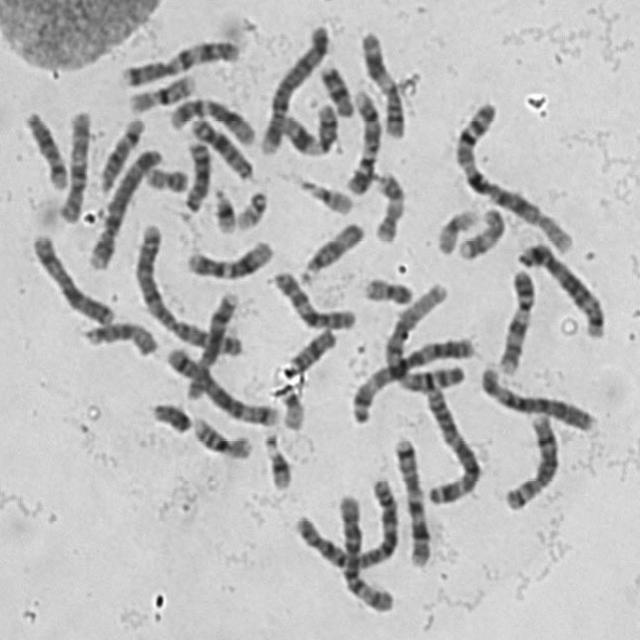A1: (448, 93, 578, 256), (380, 278, 468, 393)
A2: (127, 214, 245, 359), (288, 469, 400, 572)
A3: (343, 330, 478, 425), (416, 379, 484, 506)
B4: (252, 16, 332, 157), (80, 138, 164, 272)
B5: (160, 338, 282, 428), (512, 234, 608, 340)
C10: (266, 262, 360, 332), (51, 102, 93, 224)
C11: (354, 22, 408, 140), (274, 94, 340, 158)
C12: (162, 90, 258, 147), (180, 231, 276, 281)
C6: (474, 358, 599, 434), (331, 487, 396, 614)
C7: (114, 30, 243, 88), (386, 429, 432, 568)
C8: (178, 283, 242, 401), (497, 406, 562, 512)
C9: (492, 262, 538, 376), (339, 82, 384, 197)
D13: (184, 107, 256, 183), (176, 132, 212, 214)
D14: (15, 102, 69, 190), (91, 110, 147, 194)
D15: (293, 213, 367, 284), (75, 313, 160, 359)
E16: (122, 66, 198, 113), (186, 408, 254, 460)
E17: (452, 200, 508, 262), (367, 164, 408, 245)
E18: (280, 320, 338, 376), (313, 56, 357, 118)
F19: (430, 200, 480, 256), (270, 373, 306, 432)
F20: (356, 269, 414, 307), (138, 159, 192, 193)
G21: (256, 425, 294, 492), (206, 178, 238, 236)
G22: (292, 171, 356, 216), (230, 183, 270, 231)
X: (24, 226, 116, 328)
Y: (146, 394, 193, 436)
